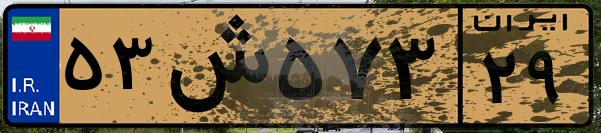2: (475, 38, 525, 113)
3: (385, 28, 445, 110), (110, 28, 158, 98)
5: (270, 28, 330, 110), (57, 26, 110, 100)
7: (330, 28, 385, 110)
9: (525, 38, 570, 115)
ش: (158, 12, 270, 120)
